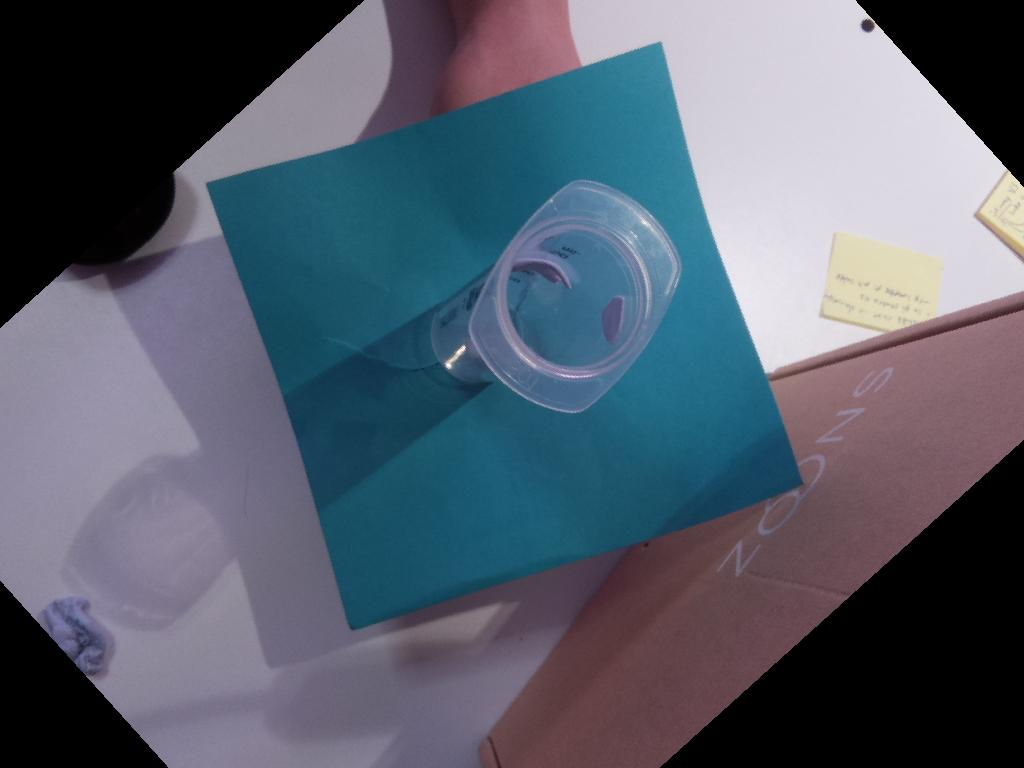dirty: (469, 180, 683, 414)
